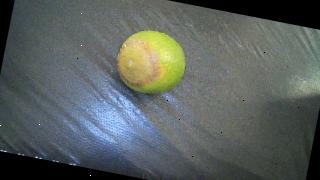DESECHO: (112, 25, 191, 100)
